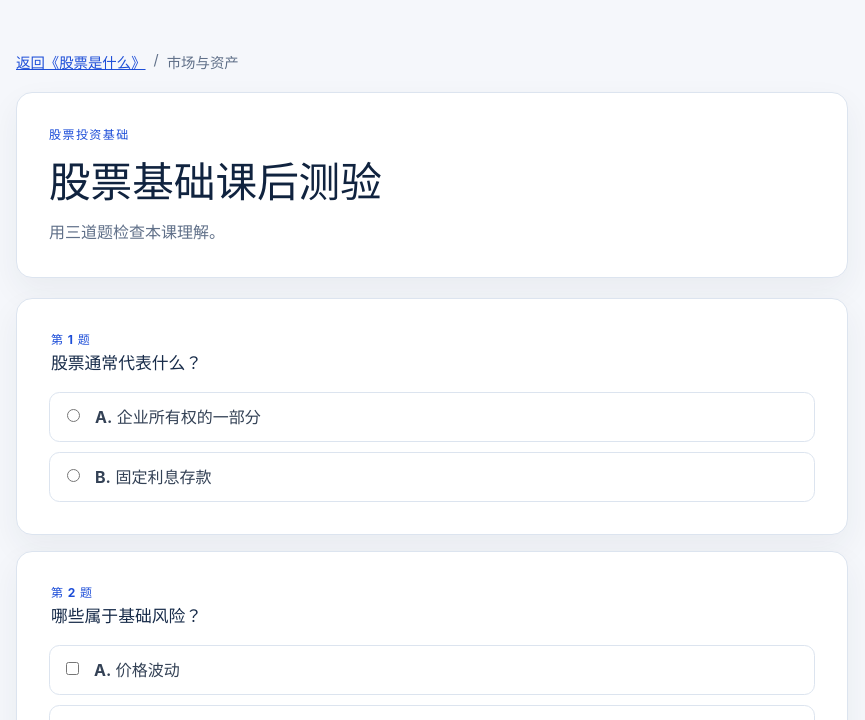
it: QuizView › preserves selections and restores controls after submit failure
Click the radio button labelled "A. 企业所有权的一部分".
click(74, 416)  # box top-left (67, 409), bottom-right (80, 422)
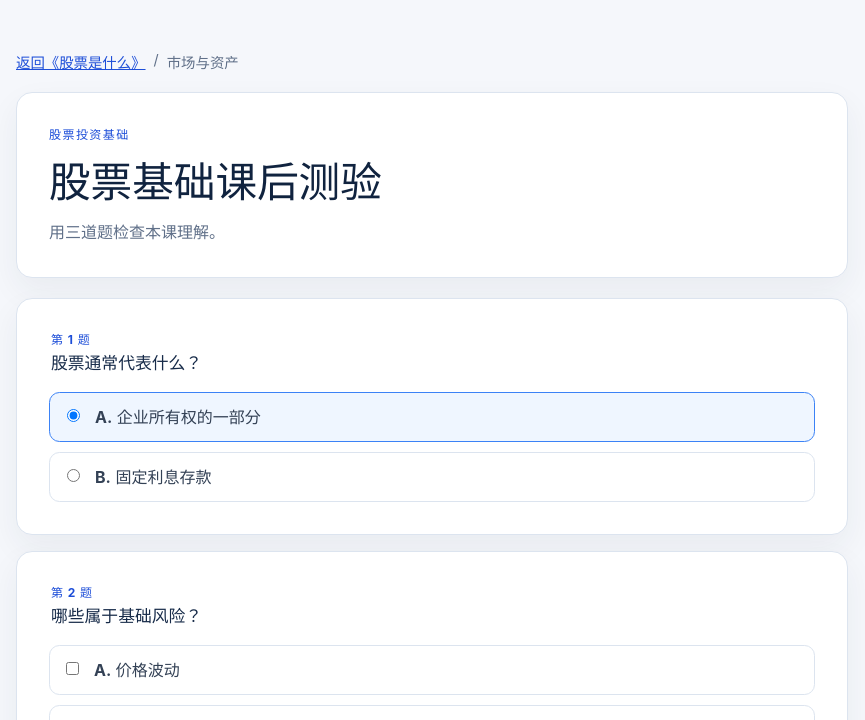
Click the checkbox labelled "A. 价格波动".
click(72, 668)  # box top-left (66, 662), bottom-right (79, 675)
(page scrolled)
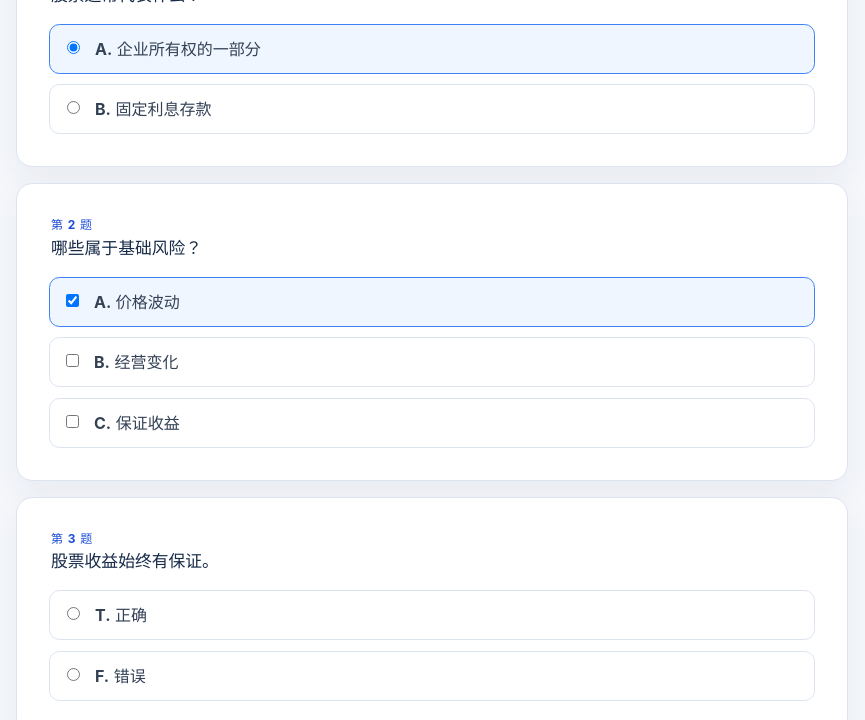
Click the checkbox labelled "B. 经营变化".
click(72, 361)  # box top-left (66, 354), bottom-right (79, 367)
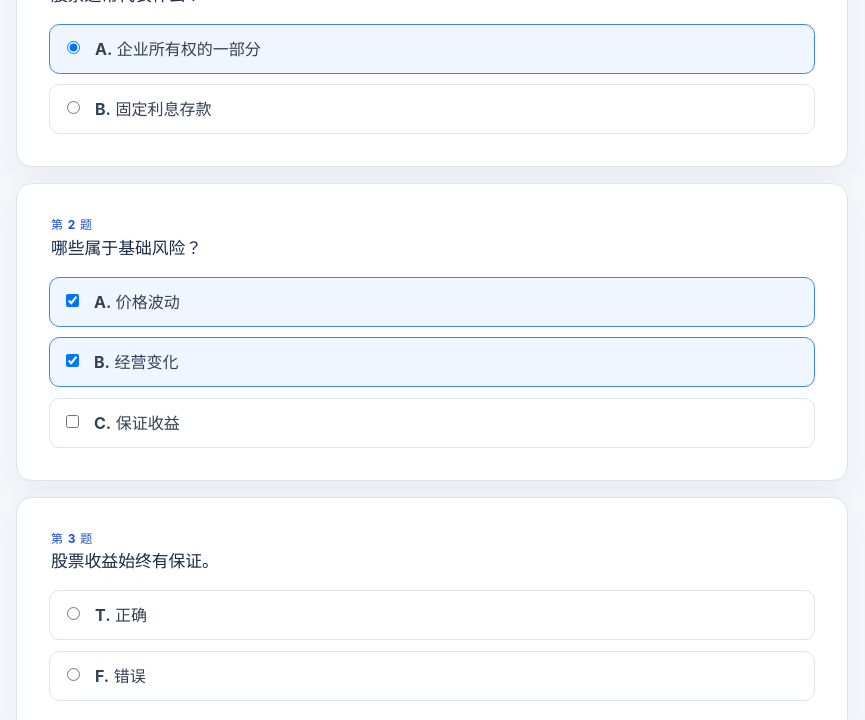
Click the radio button labelled "F. 错误".
click(74, 674)  # box top-left (67, 668), bottom-right (80, 681)
(page scrolled)
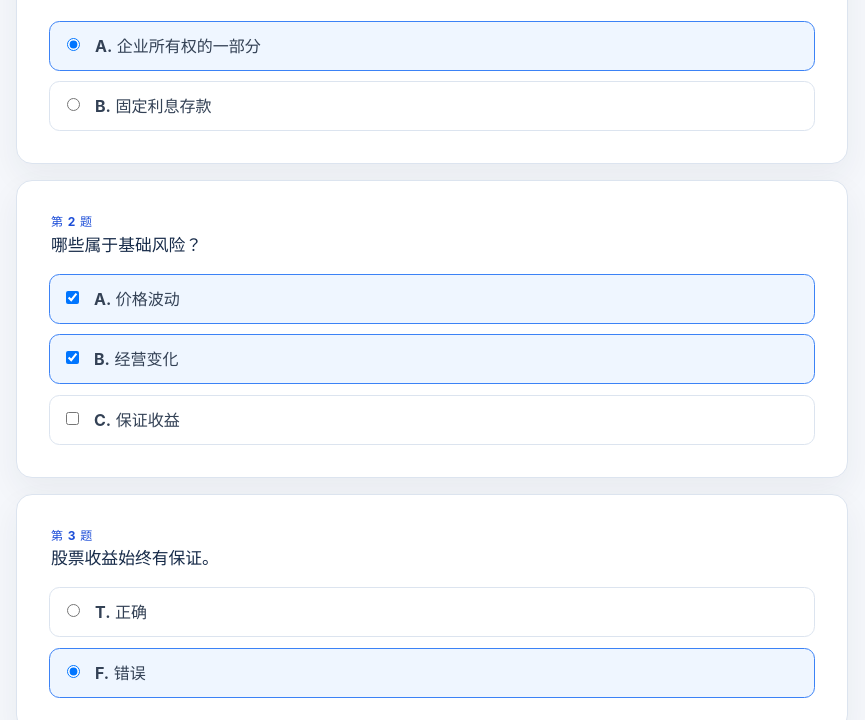
Submit the form
(page scrolled)
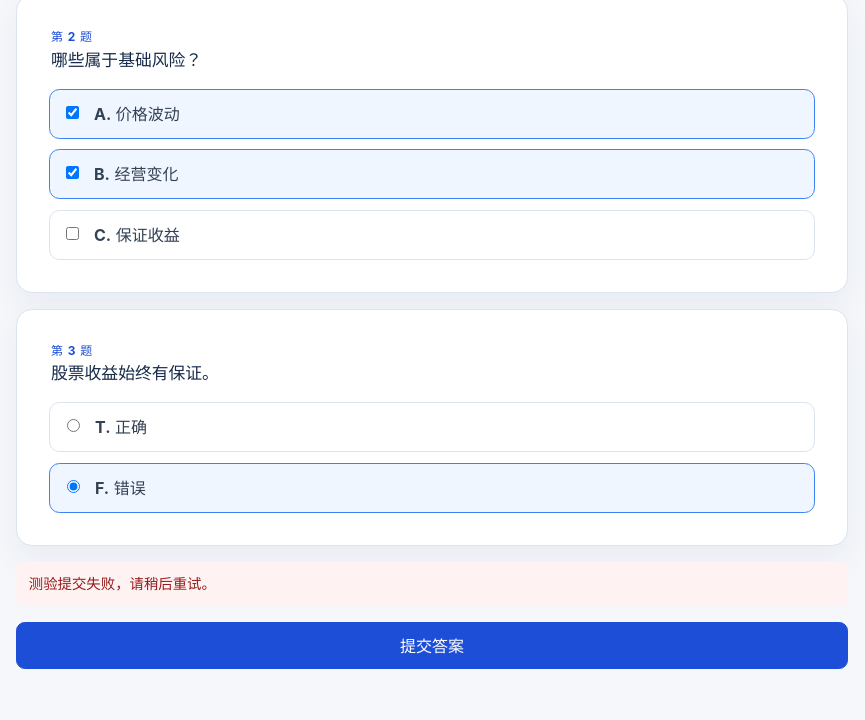
Expected: the button with test id "quiz-submit" is enabled, top-left (16, 622), bottom-right (848, 669)
Expected: the message "测验提交失败，请稍后重试。" is shown, top-left (16, 562), bottom-right (848, 606)
